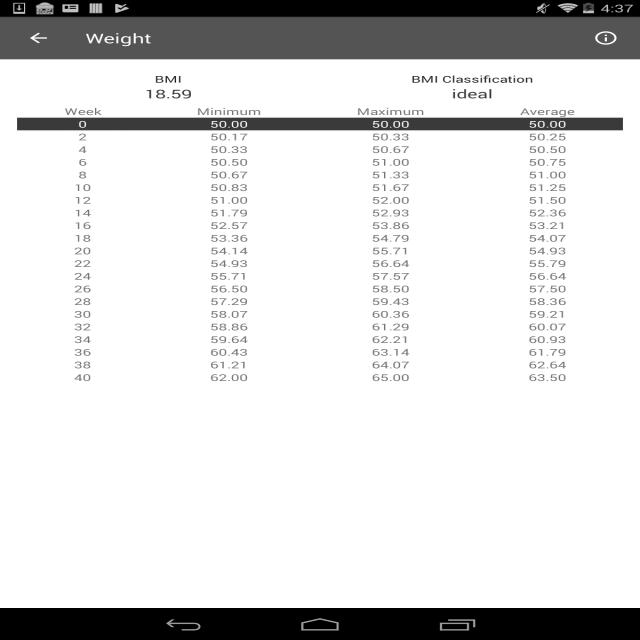ImageButton: (9, 17, 68, 59)
TextView: (17, 85, 319, 102), (321, 85, 623, 102), (17, 70, 319, 85), (321, 70, 623, 85), (309, 105, 472, 118), (309, 130, 472, 143), (309, 143, 472, 156), (309, 168, 472, 181), (309, 181, 472, 194), (309, 206, 472, 219), (309, 219, 472, 232), (309, 244, 472, 257), (309, 257, 472, 270), (309, 282, 472, 295), (309, 295, 472, 308), (309, 320, 472, 333), (309, 333, 472, 346), (309, 358, 472, 371), (309, 371, 472, 384), (149, 105, 309, 118), (149, 130, 309, 143), (149, 143, 309, 156), (149, 168, 309, 181), (149, 181, 309, 194), (149, 206, 309, 219), (149, 219, 309, 232), (149, 244, 309, 257), (149, 257, 309, 270), (149, 282, 309, 295), (149, 295, 309, 308), (149, 320, 309, 333), (149, 333, 309, 346), (149, 358, 309, 371), (149, 371, 309, 384), (472, 105, 623, 118), (472, 130, 623, 143), (472, 143, 623, 156), (472, 168, 623, 181), (472, 181, 623, 194), (472, 206, 623, 219), (472, 219, 623, 232), (472, 244, 623, 257), (472, 257, 623, 270), (472, 282, 623, 295), (472, 295, 623, 308), (472, 320, 623, 333), (472, 333, 623, 346), (472, 358, 623, 371), (472, 371, 623, 384), (309, 118, 472, 130), (309, 156, 472, 168), (309, 194, 472, 206), (309, 232, 472, 244), (309, 270, 472, 282), (309, 308, 472, 320), (309, 346, 472, 358), (149, 118, 309, 130), (149, 156, 309, 168), (149, 194, 309, 206), (149, 232, 309, 244), (149, 270, 309, 282), (149, 308, 309, 320), (149, 346, 309, 358), (472, 118, 623, 130), (472, 156, 623, 168), (472, 194, 623, 206), (472, 232, 623, 244), (472, 270, 623, 282), (472, 308, 623, 320), (472, 346, 623, 358), (17, 105, 149, 118), (17, 130, 149, 143), (17, 143, 149, 156), (17, 168, 149, 181), (17, 181, 149, 194), (17, 206, 149, 219), (17, 219, 149, 232), (17, 244, 149, 257), (17, 257, 149, 270), (17, 282, 149, 295), (17, 295, 149, 308), (17, 320, 149, 333), (17, 333, 149, 346), (17, 358, 149, 371), (17, 371, 149, 384), (580, 22, 632, 54), (17, 118, 149, 130), (17, 156, 149, 168), (17, 194, 149, 206), (17, 232, 149, 244), (17, 270, 149, 282), (17, 308, 149, 320), (17, 346, 149, 358), (85, 29, 152, 47)
